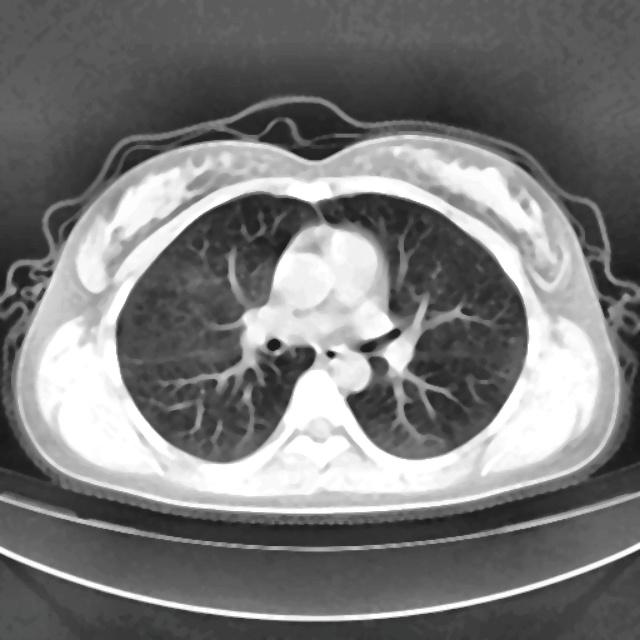covid: (2, 97, 635, 526)
